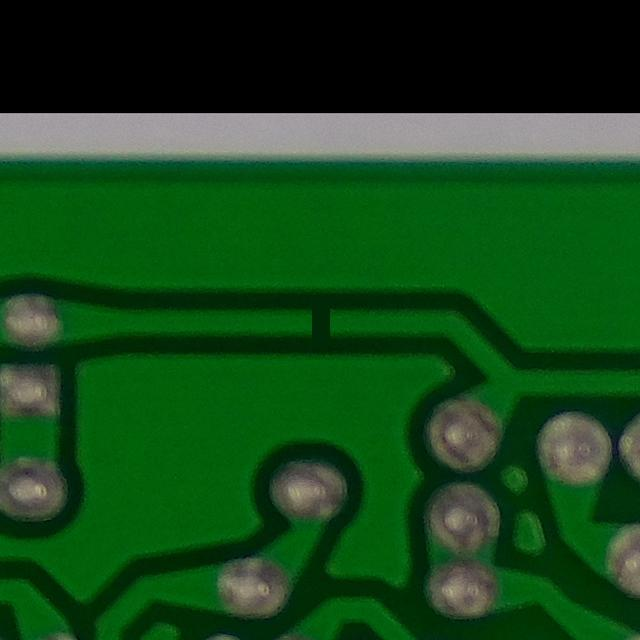open_circuit: (293, 294, 347, 345)
